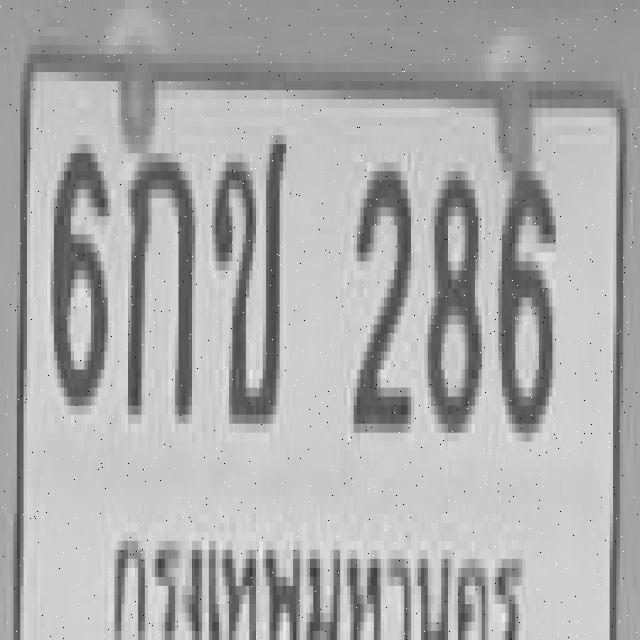10GorGai: (124, 144, 192, 414)
19ChorChang: (210, 126, 284, 414)
2: (350, 154, 408, 424)
6: (495, 154, 553, 424), (47, 135, 105, 397)
8: (424, 162, 478, 424)
Bangkok: (104, 522, 526, 640)
